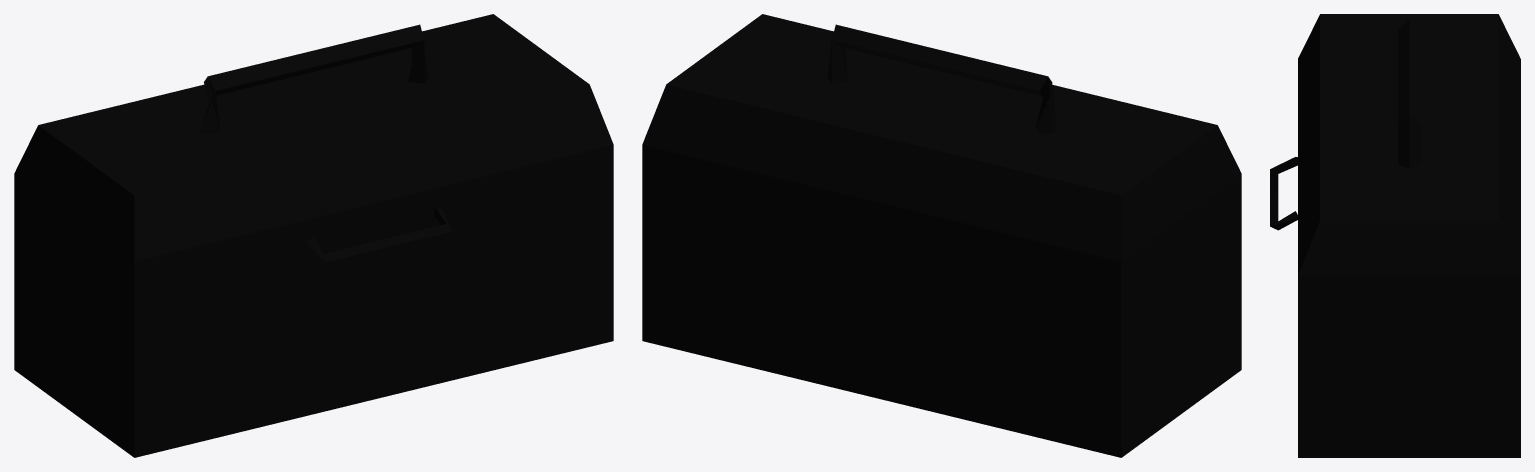
The model's file is SM_toolbox_green.fbx.
The picture shows the model from 3 angles, left to right: view 1: azimuth 30°, elevation 25°; view 2: azimuth 150°, elevation 25°; view 3: azimuth 270°, elevation 25°; orthographic projection. The views are drawn at different scales.
Parts seen in each view (by area): view 1: toolbox_green, toolbox_green_lid; view 2: toolbox_green, toolbox_green_lid; view 3: toolbox_green_lid, toolbox_green.
Part boxes in pixels (x1,y1,x2,y2): toolbox_green: [14, 145, 613, 457]; toolbox_green_lid: [14, 14, 613, 261]; toolbox_green: [642, 145, 1241, 457]; toolbox_green_lid: [642, 14, 1241, 261]; toolbox_green_lid: [1298, 14, 1520, 275]; toolbox_green: [1270, 157, 1520, 457].
Bounding box in the file's own units: 0.46 × 0.2798 × 0.2249.
